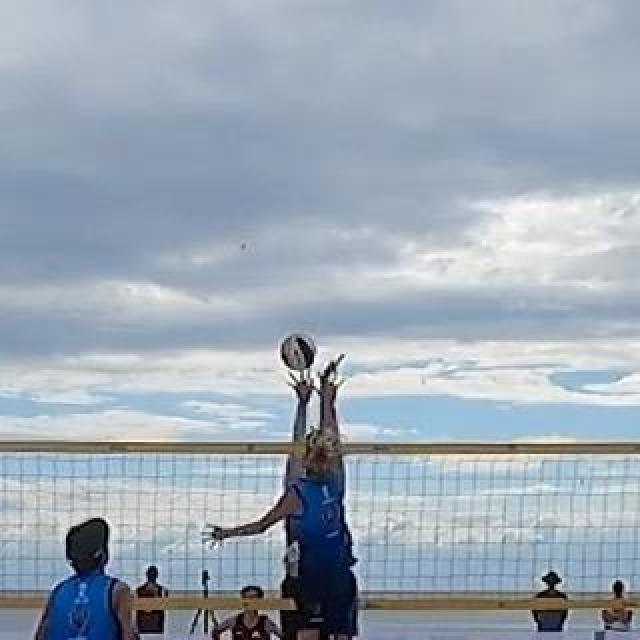volleyball: (279, 336, 311, 370)
